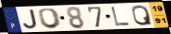7: (87, 6, 103, 28)
8: (66, 5, 86, 29)
J: (22, 9, 39, 30)
L: (110, 6, 132, 26)
O: (38, 7, 64, 30)
Q: (131, 4, 154, 27)
